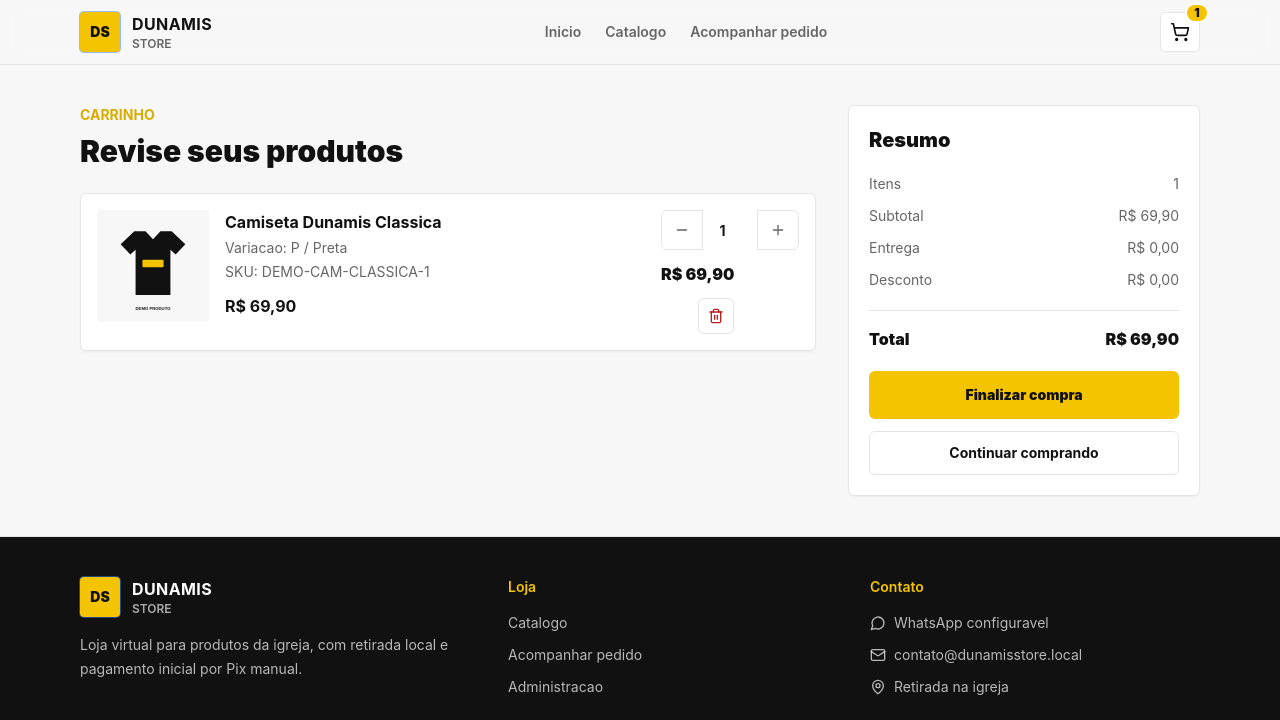
Test: CartPage › renders cart lines from local storage and updates quantity
expect the link "Camiseta Dunamis Classica" is shown: met, box [225,212,442,232]
expect the text "R$ 69,90" below "SKU:" is shown: met, box [225,296,296,316]
Click the button named "Aumentar quantidade de Camiseta Dunamis Classica".
click(778, 230)  # box [758,210,798,250]
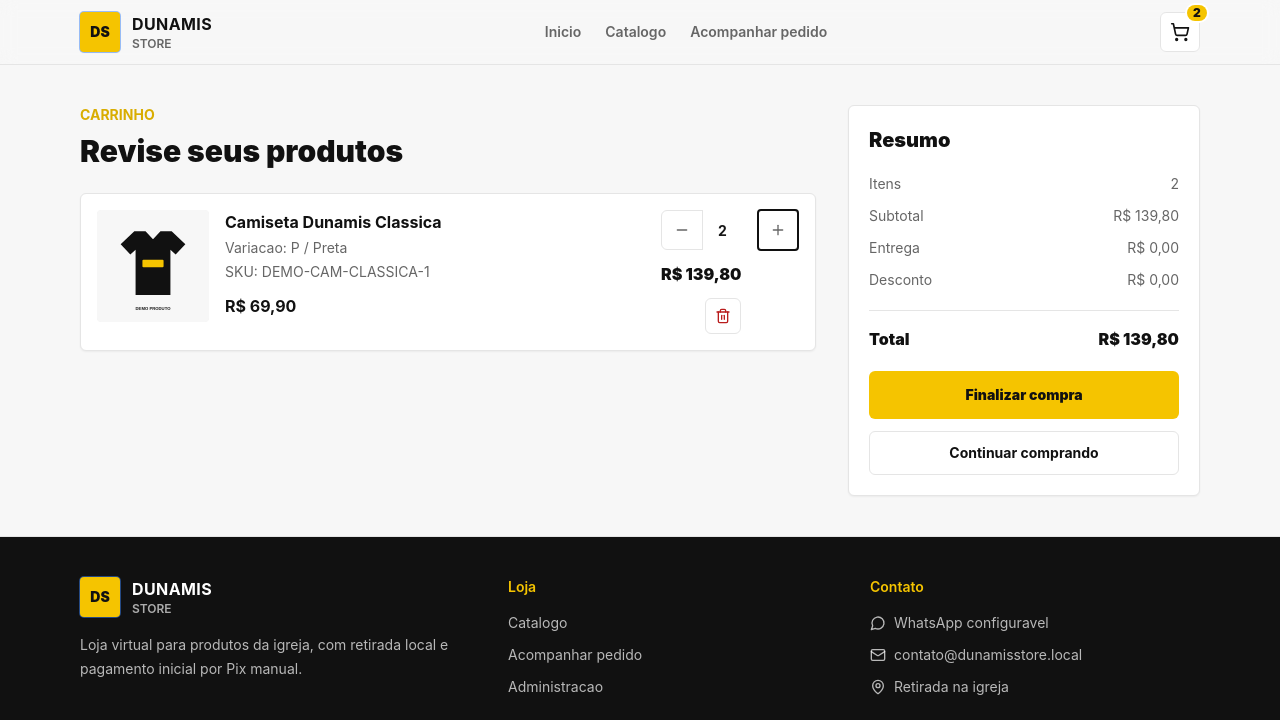
expect the number field showing "2" is shown: met, box [702,210,758,250]
expect the text "R$ 139,80" in the row of "DEMO-CAM-CLASSICA-1" is shown: met, box [661,264,741,284]
